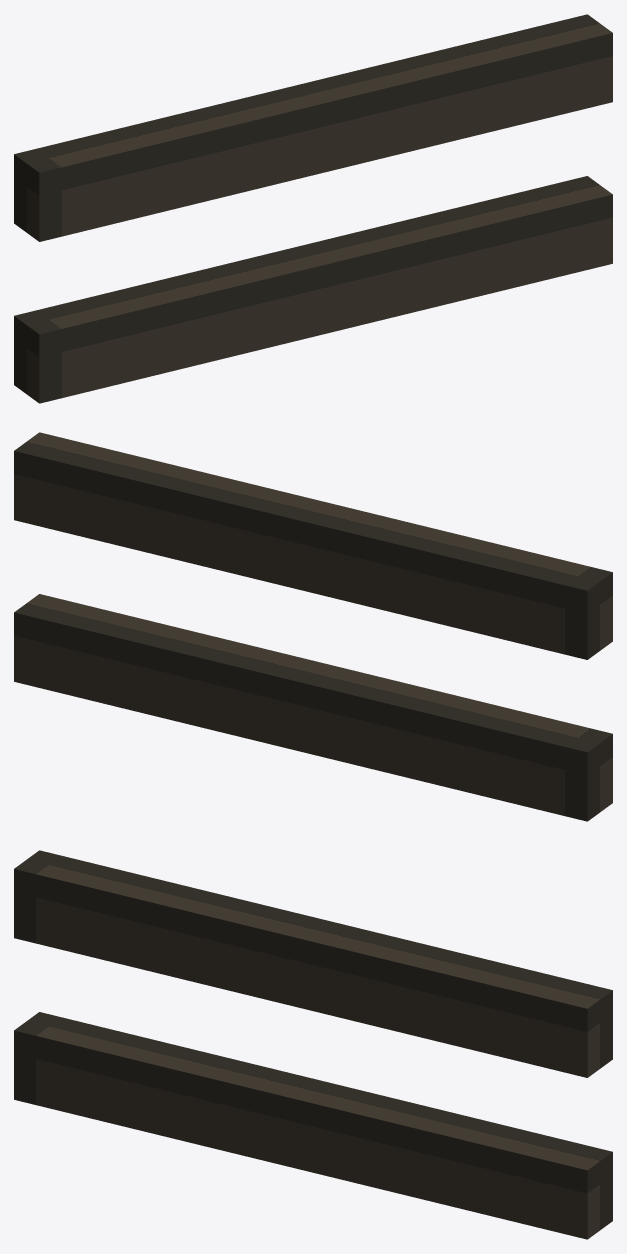
File: window_boards.gltf
3 renders of one model, top to bottom at view 1: azimuth 30°, elevation 25°; view 2: azimuth 150°, elevation 25°; view 3: azimuth 330°, elevation 25°, orthographic.
Parts seen in each view (by area): view 1: board (×2); view 2: board (×2); view 3: board (×2).
Part boxes in pixels (<box>): board (×2): <box>14,14,612,403</box>; board (×2): <box>14,432,612,821</box>; board (×2): <box>14,850,612,1239</box>.
Size of the model in its own units: 1.62 by 0.625 by 0.125.
1 material, 1 textured.
